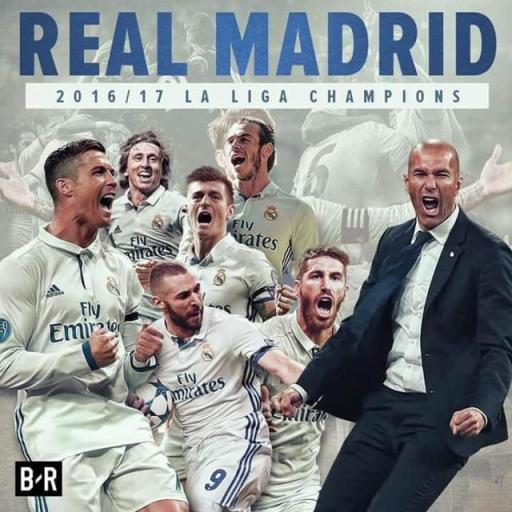Adidas: (42, 282, 68, 300), (112, 223, 123, 235)
Emirates: (47, 299, 121, 344), (165, 370, 227, 404), (230, 216, 280, 252), (122, 234, 172, 262)
